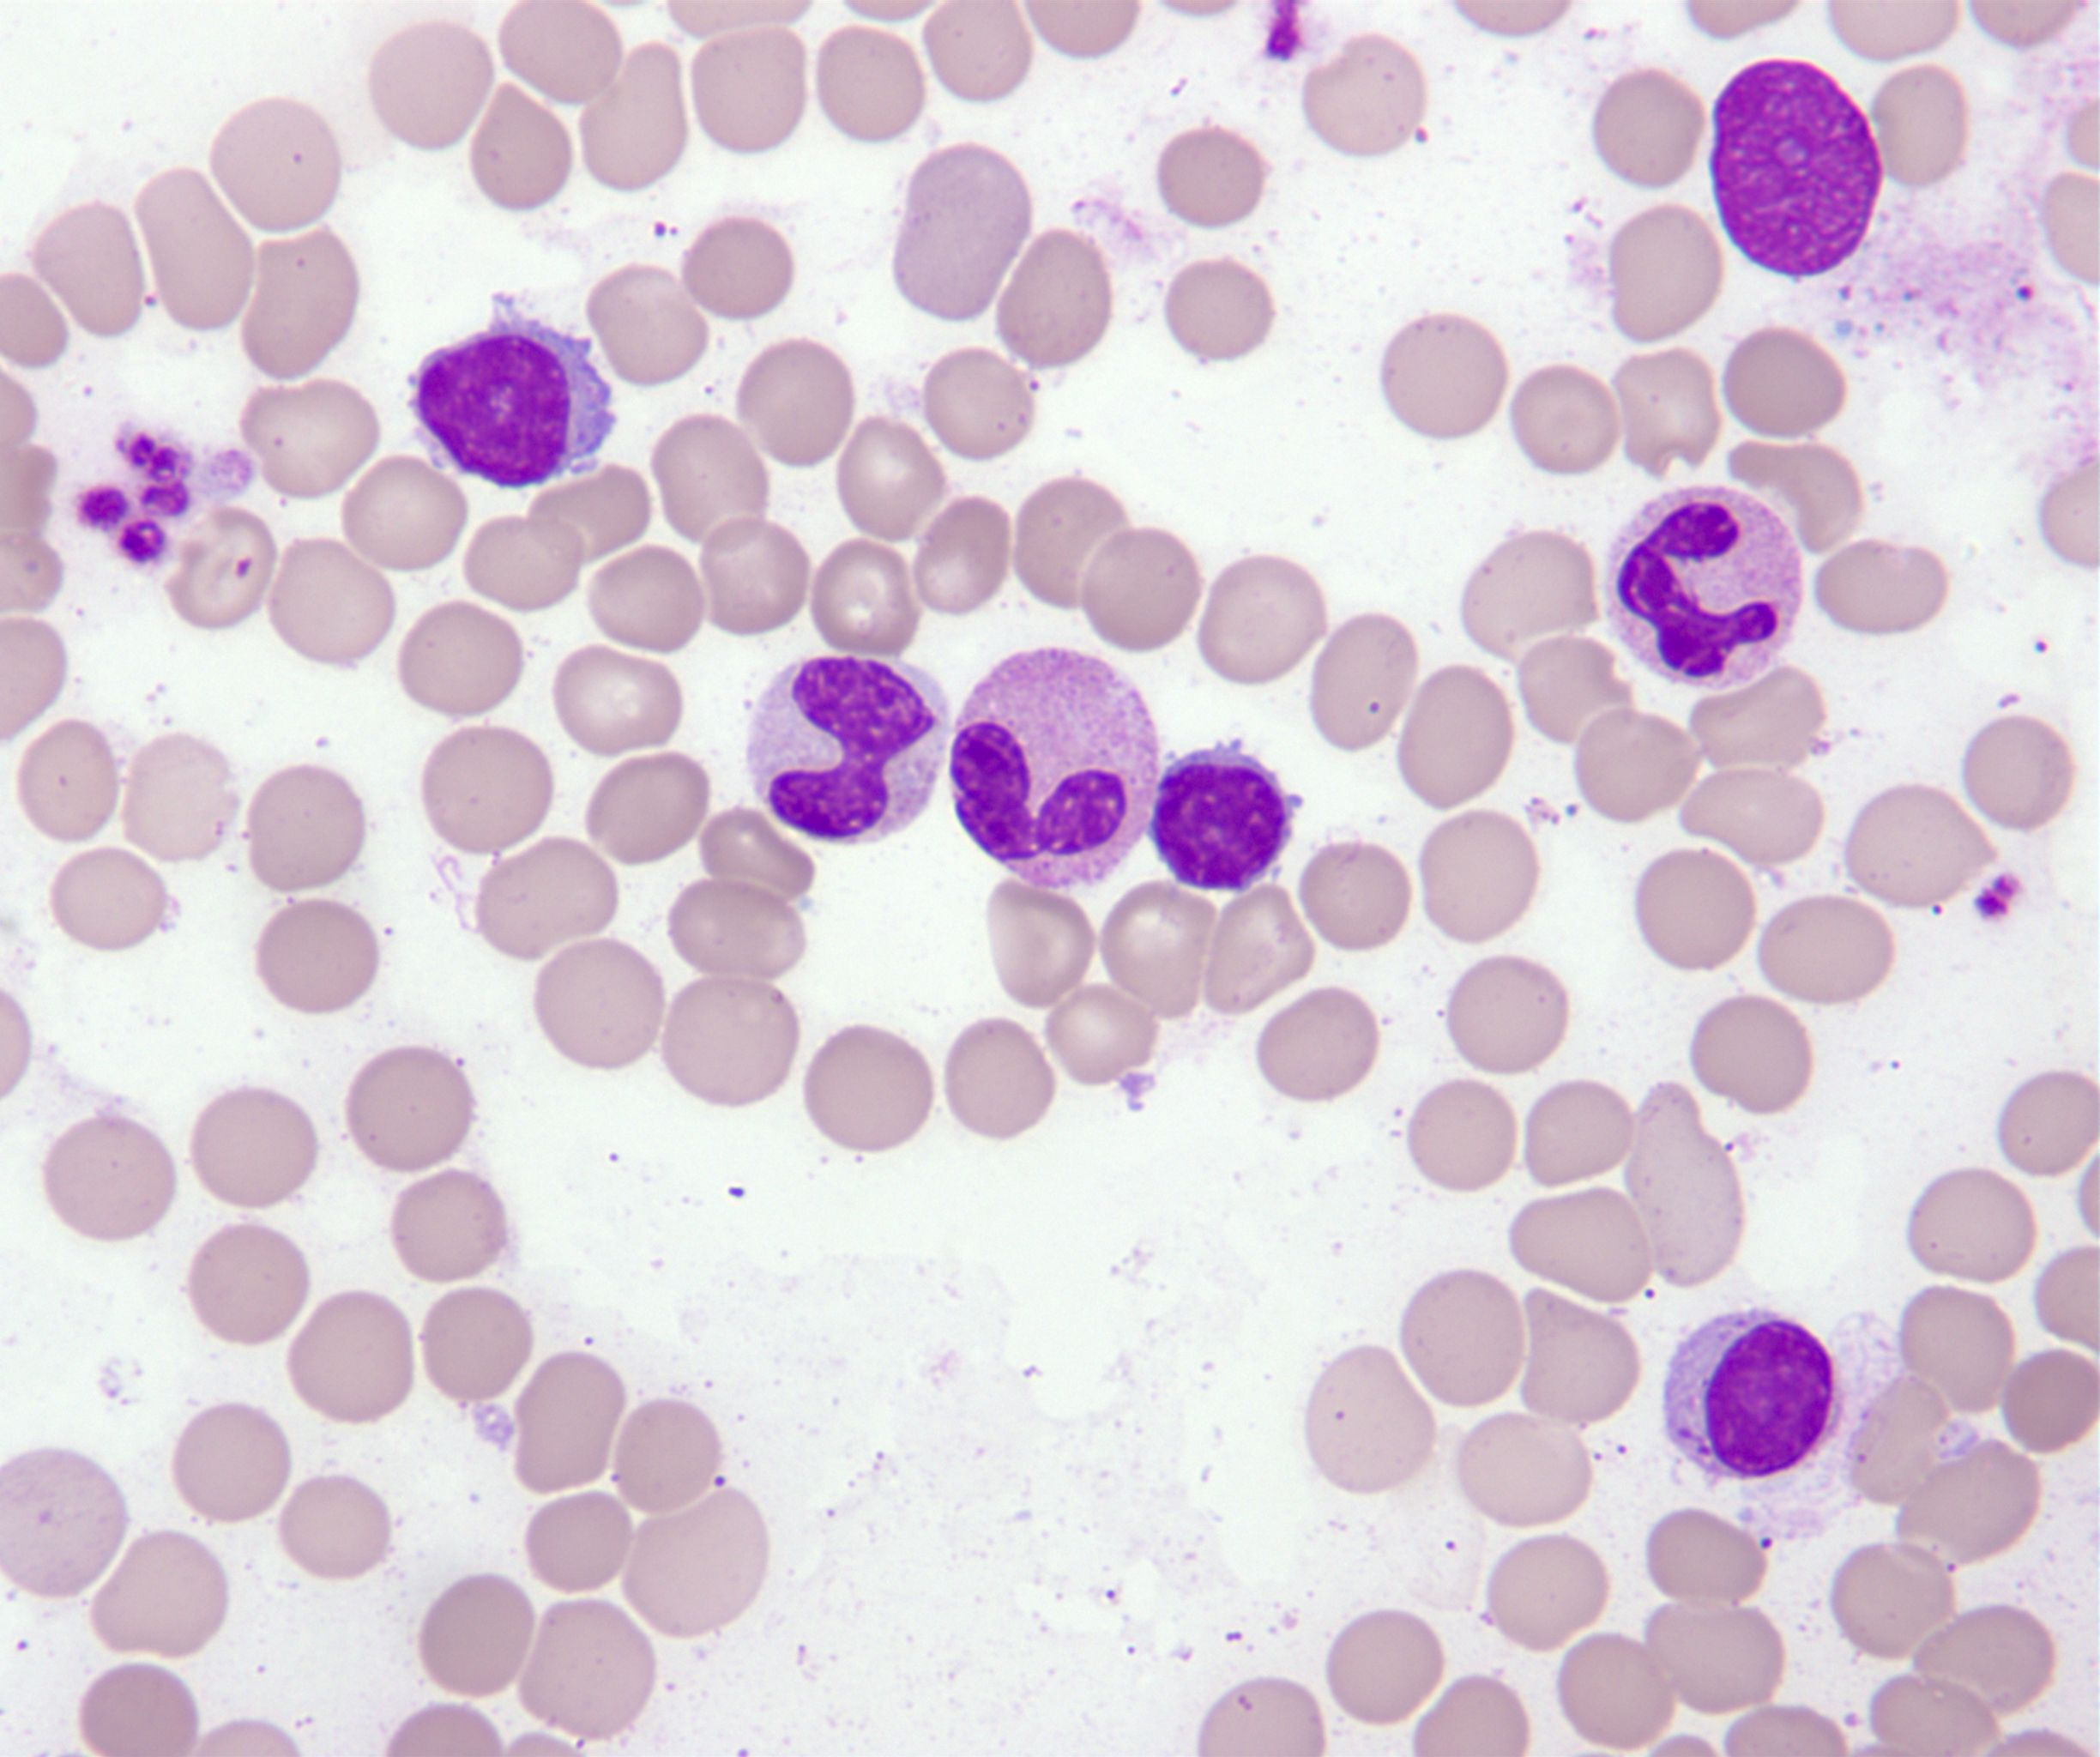32: (405, 295, 614, 489), (1666, 1310, 1831, 1478), (1148, 740, 1301, 892)
42: (747, 656, 949, 843)
5: (1605, 489, 1800, 687)
6: (949, 649, 1158, 890)
x: (1709, 58, 1884, 277)
